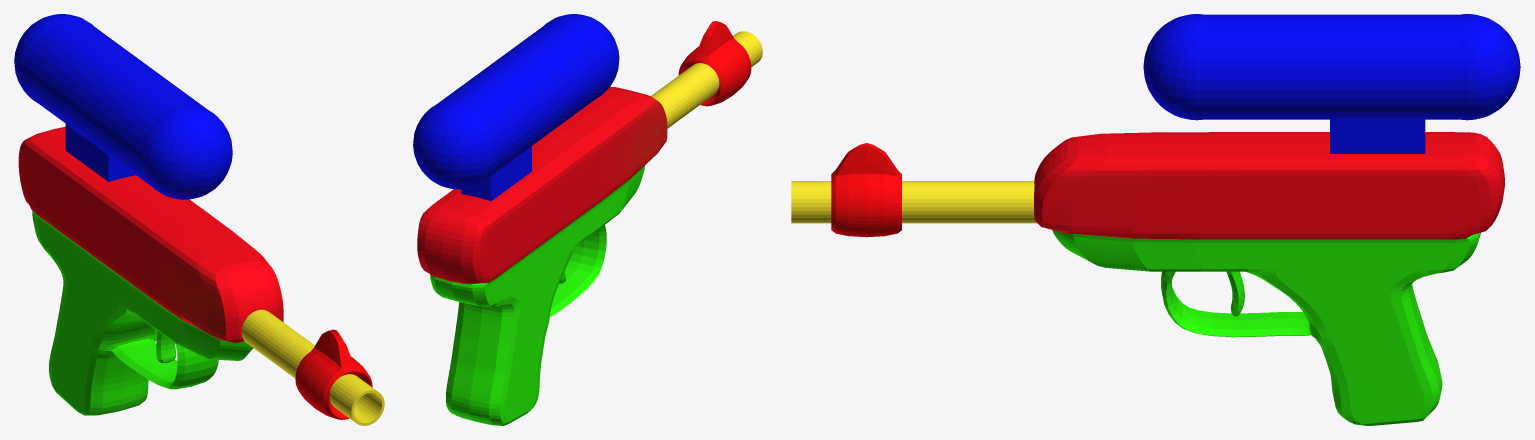
File: Pistol.fbx
3 renders of one model, left to right at view 1: azimuth 30°, elevation 25°; view 2: azimuth 150°, elevation 25°; view 3: azimuth 270°, elevation 25°, orthographic. The views are drawn at different scales.
Visible parts, largest first — view 1: Pistol; view 2: Pistol; view 3: Pistol.
Boxes of the visible parts, box(x1,y1,x2,y2) form: Pistol: box(14, 14, 384, 425); Pistol: box(413, 14, 762, 425); Pistol: box(791, 14, 1520, 425).
Size of the model in its own units: 0.0442 by 0.1805 by 0.3032.
